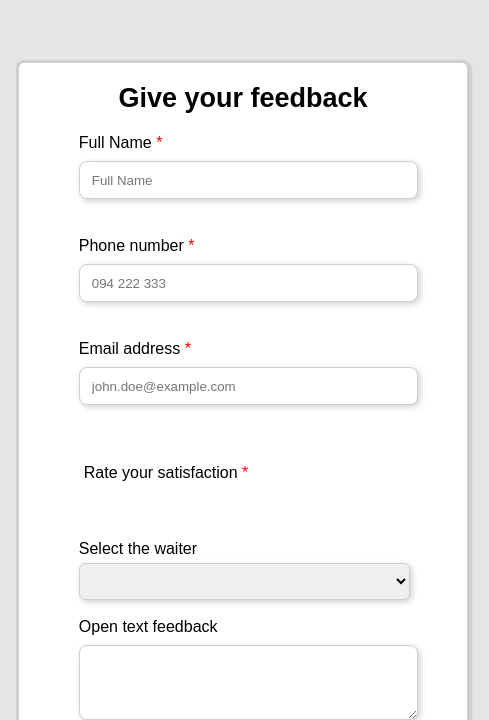
Test: SurveyForm › SurveyForm Controls › Reset button › Is becomes enabled when a value is entered in one of the input fields
Type "Test" into the field with test id "fullName" at (248, 180), box [79,161,418,199]
(page scrolled)
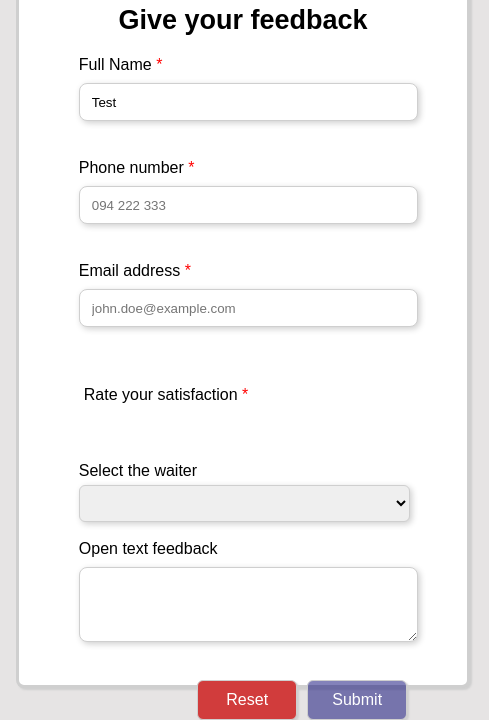
Expected: the button with test id "resetButton" is enabled, [197,680,297,719]
